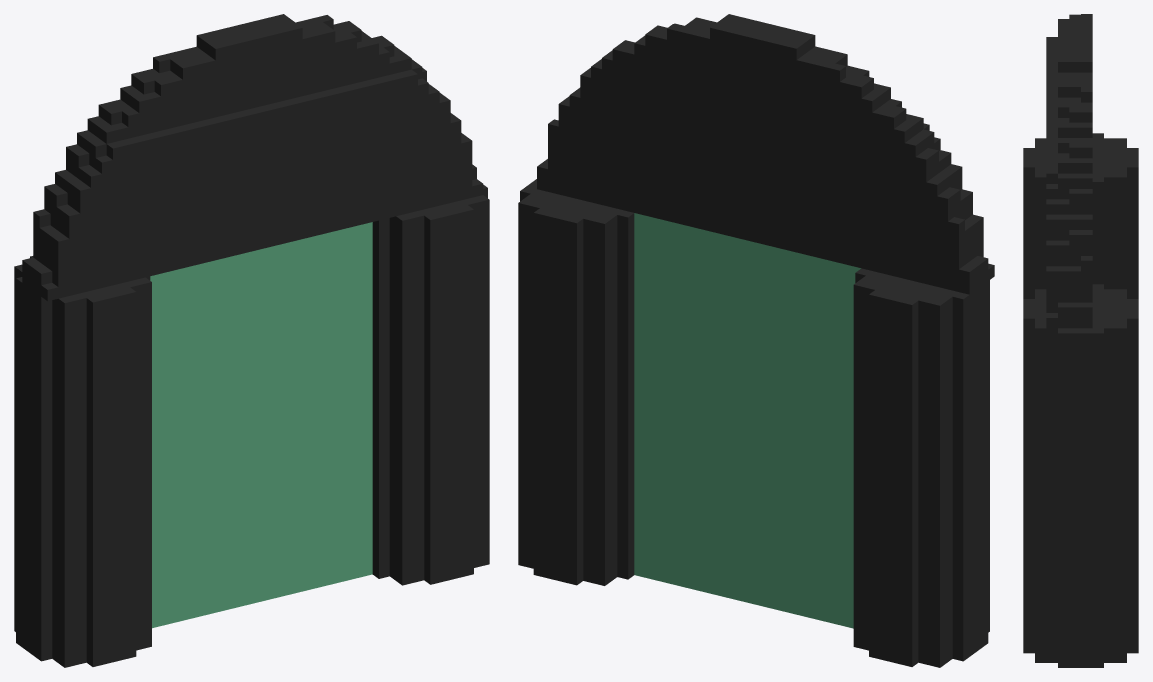
Rendered from Arch.obj.
The picture shows the model from 3 angles, left to right: view 1: azimuth 30°, elevation 25°; view 2: azimuth 150°, elevation 25°; view 3: azimuth 270°, elevation 25°; orthographic projection. The views are drawn at different scales.
Bounding box in the file's own units: 4.1 × 5 × 1.
